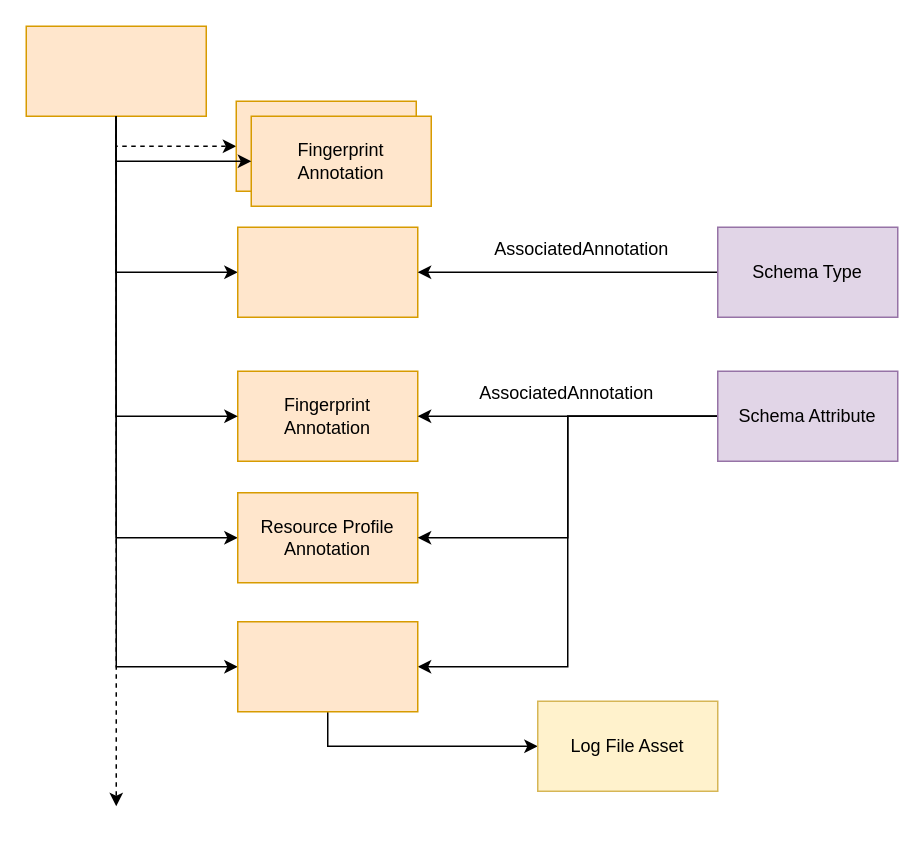
This 924x845 diagram has some shape labels left out. The shapes that lost their labels are listed below. From the top down, each one's centre as x and y in pixels, then its label:
pixel 115 70: Survey Report
pixel 327 271: Schema Analysis Annotation
pixel 327 666: Resource Profile Log Annotation
